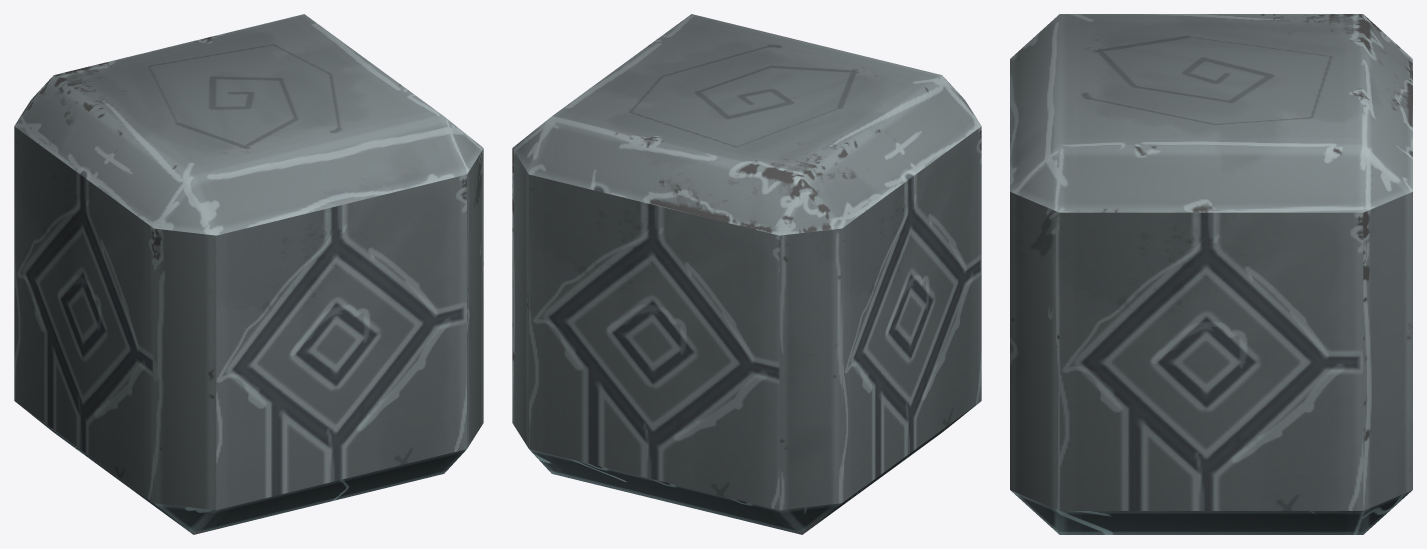
Rendered from puzzle_box_diamond.FBX.
The picture shows the model from 3 angles, left to right: view 1: azimuth 30°, elevation 25°; view 2: azimuth 150°, elevation 25°; view 3: azimuth 270°, elevation 25°; orthographic projection. The views are drawn at different scales.
Parts seen in each view (by area): view 1: puzzle_box_diamond; view 2: puzzle_box_diamond; view 3: puzzle_box_diamond.
Boxes of the visible parts, x1,y1,x2,y2 form: puzzle_box_diamond: (14,14,483,534); puzzle_box_diamond: (512,14,981,534); puzzle_box_diamond: (1010,14,1412,534).
Bounding box in the file's own units: 23.32 × 24.16 × 22.72.
Materials: 1 (1 with a texture image).
